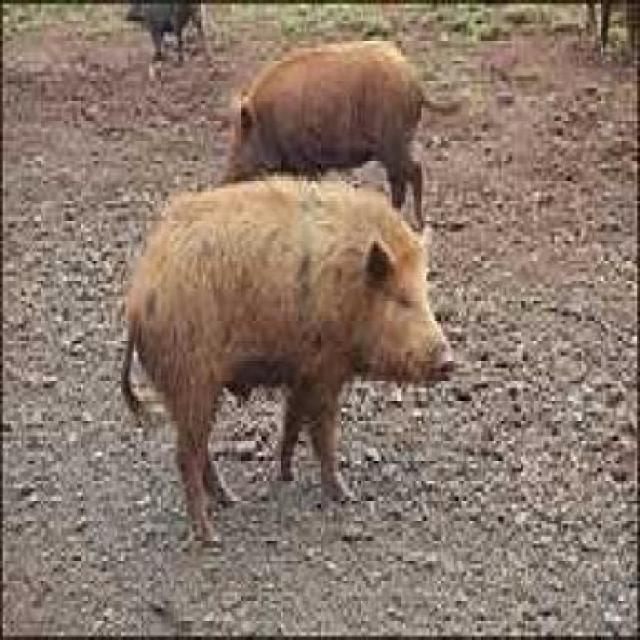Boar: (128, 150, 503, 516), (203, 9, 457, 217)
